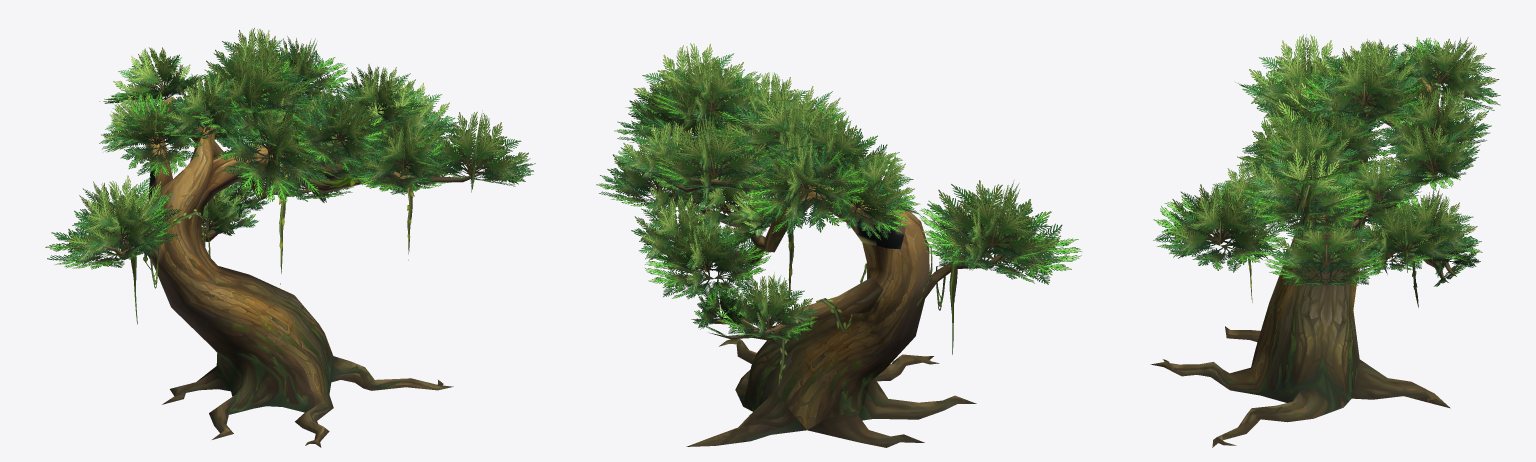
The model's file is fb_tys_wj_01.FBX.
3 views of the same model, side by side, from view 1: azimuth 30°, elevation 25°; view 2: azimuth 150°, elevation 25°; view 3: azimuth 270°, elevation 25° (orthographic). The views are drawn at different scales.
Parts seen in each view (by area): view 1: fb_tys_wj_01_b, fb_tys_wj_01_a; view 2: fb_tys_wj_01_b, fb_tys_wj_01_a; view 3: fb_tys_wj_01_b, fb_tys_wj_01_a.
Boxes of the visible parts, left/top/right/bottom form: fb_tys_wj_01_b: left=45, top=28, right=535, bottom=324; fb_tys_wj_01_a: left=103, top=96, right=487, bottom=447; fb_tys_wj_01_b: left=596, top=43, right=1081, bottom=386; fb_tys_wj_01_a: left=664, top=137, right=1004, bottom=447; fb_tys_wj_01_b: left=1153, top=34, right=1500, bottom=307; fb_tys_wj_01_a: left=1150, top=76, right=1456, bottom=447.
Size of the model in its own units: 1355 by 867 by 921.
